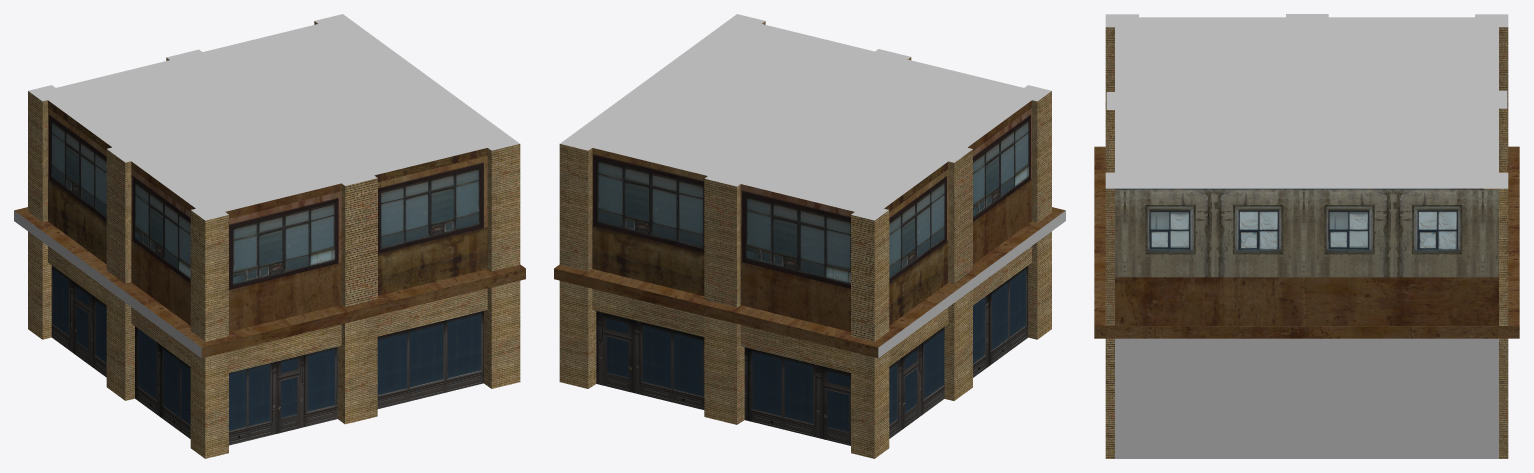
3 renders of one model, left to right at view 1: azimuth 30°, elevation 25°; view 2: azimuth 150°, elevation 25°; view 3: azimuth 270°, elevation 25°, orthographic. The views are drawn at different scales.
Parts seen in each view (by area): view 1: B38; view 2: B38; view 3: B38.
Part boxes in pixels (<box>): B38: <box>14,14,525,458</box>; B38: <box>554,14,1065,458</box>; B38: <box>1094,14,1519,458</box>.
Bounding box in the file's own units: 1492 × 1048 × 1494.
